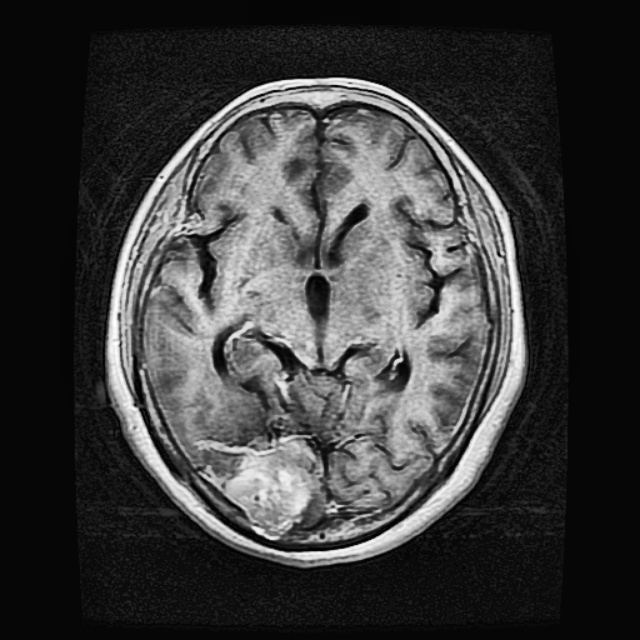Pituitary: (222, 427, 320, 534)
